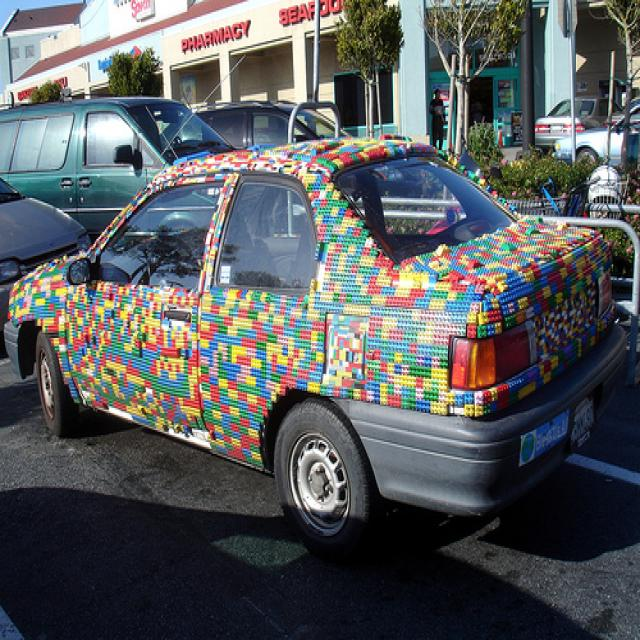Car: (3, 157, 629, 522), (0, 102, 248, 238), (0, 180, 94, 323)
